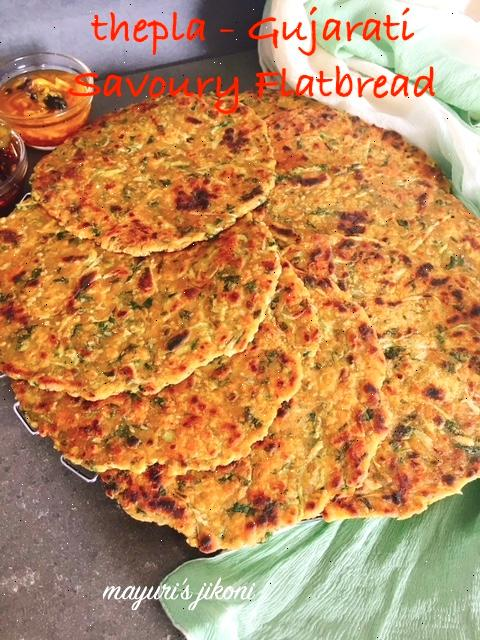thepla: (49, 109, 480, 516)
